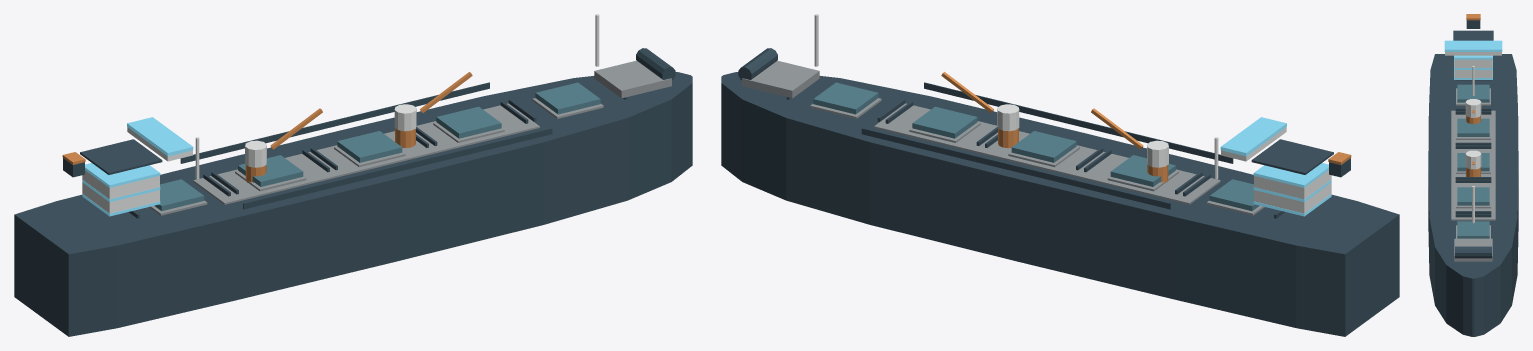
The model's file is bulk-carrier.glb.
The picture shows the model from 3 angles, left to right: view 1: azimuth 30°, elevation 25°; view 2: azimuth 150°, elevation 25°; view 3: azimuth 270°, elevation 25°; orthographic projection. The views are drawn at different scales.
Parts seen in each view (by area): view 1: BulkCarrier; view 2: BulkCarrier; view 3: BulkCarrier.
Boxes of the visible parts, x1,y1,x2,y2 form: BulkCarrier: [14, 14, 692, 336]; BulkCarrier: [721, 14, 1399, 336]; BulkCarrier: [1428, 14, 1518, 336].
Bounding box in the file's own units: 20 × 4.9 × 3.4.
